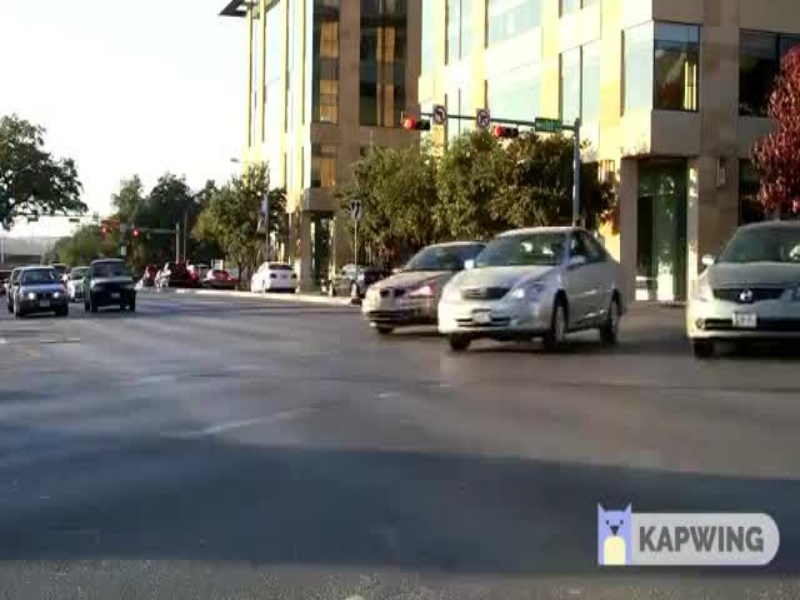car: (439, 229, 630, 353), (674, 211, 800, 372), (357, 239, 446, 343), (3, 256, 73, 318), (78, 253, 142, 315)
